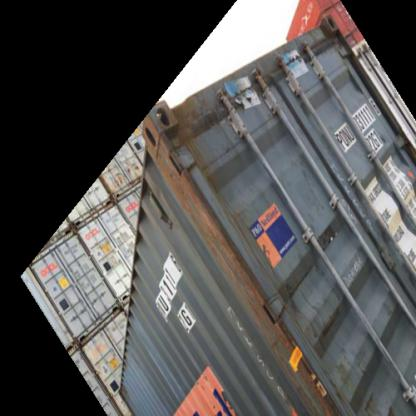Damage: (195, 202, 302, 356), (172, 92, 219, 173), (226, 74, 272, 112), (274, 42, 314, 80), (314, 212, 336, 252)
